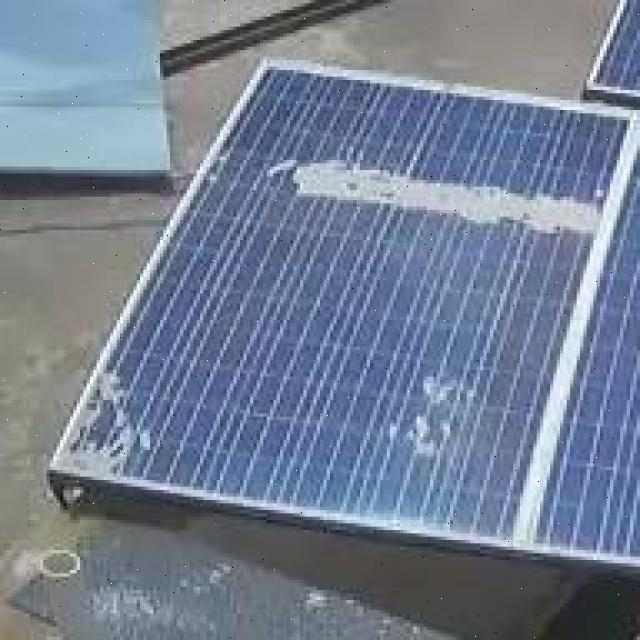Anomaly Solar Panel: (53, 0, 625, 581)
Snow: (256, 147, 602, 245), (374, 356, 505, 487), (53, 356, 160, 485)
